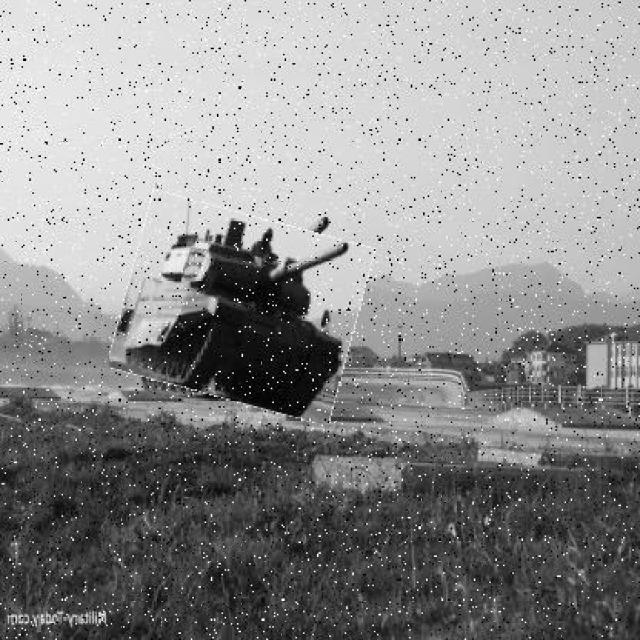Tank: (118, 203, 366, 414)
